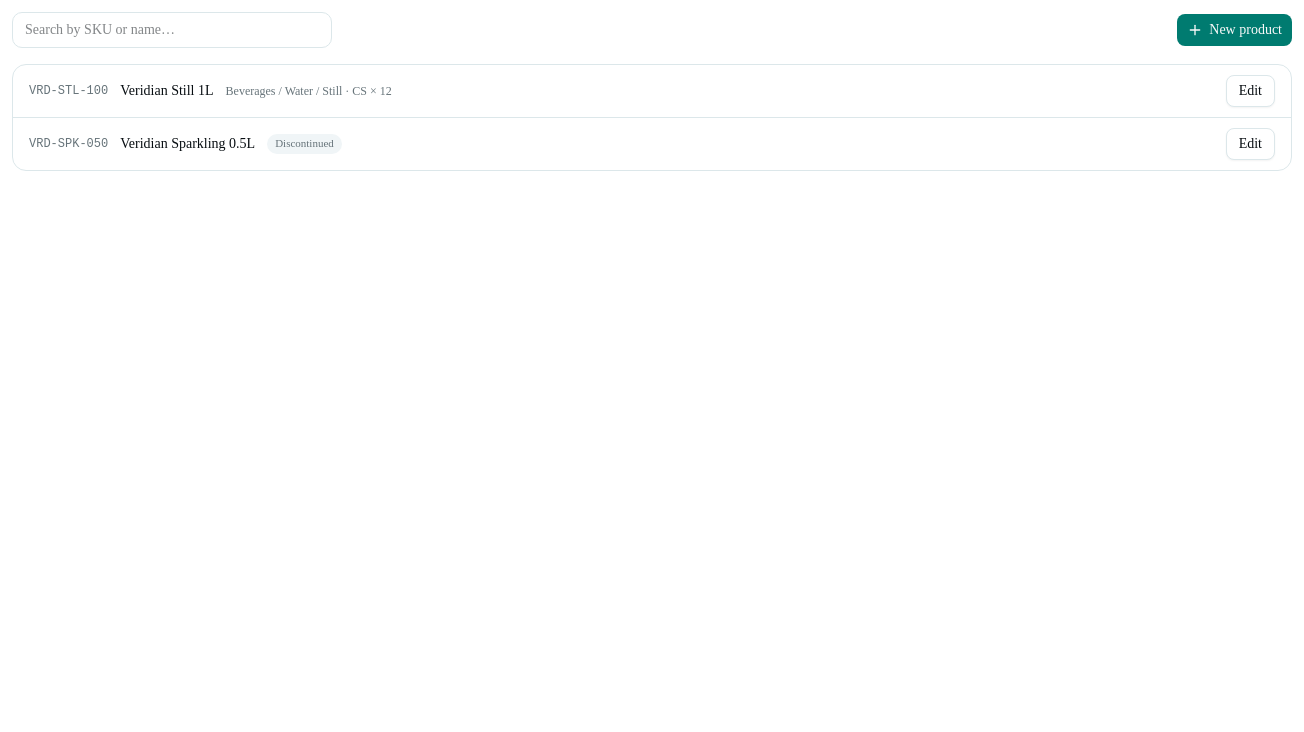
<ProductBrowser> › says an unauthored vocabulary is optional rather than rendering a silent blank
Click the button "New product" at (1235,30), box [1177, 14, 1292, 46]
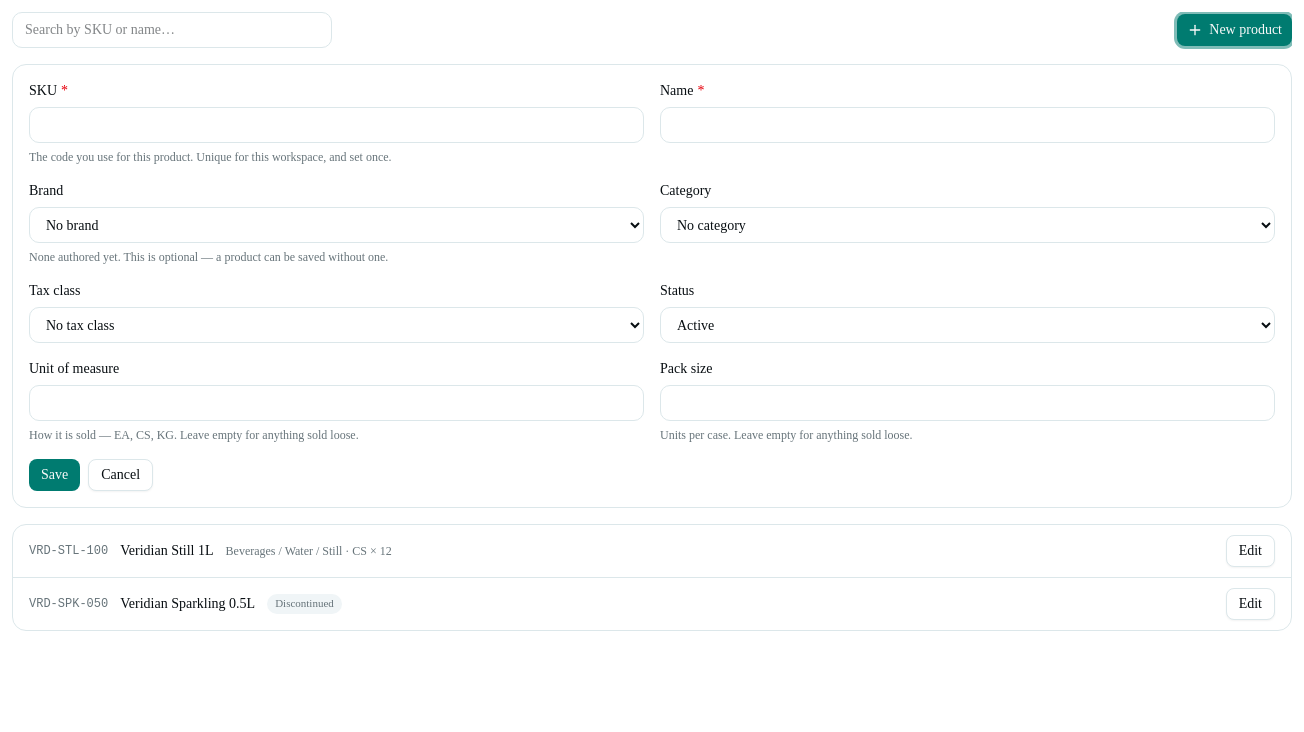
Check: the text "None authored yet" is shown, box [29, 250, 388, 264]
